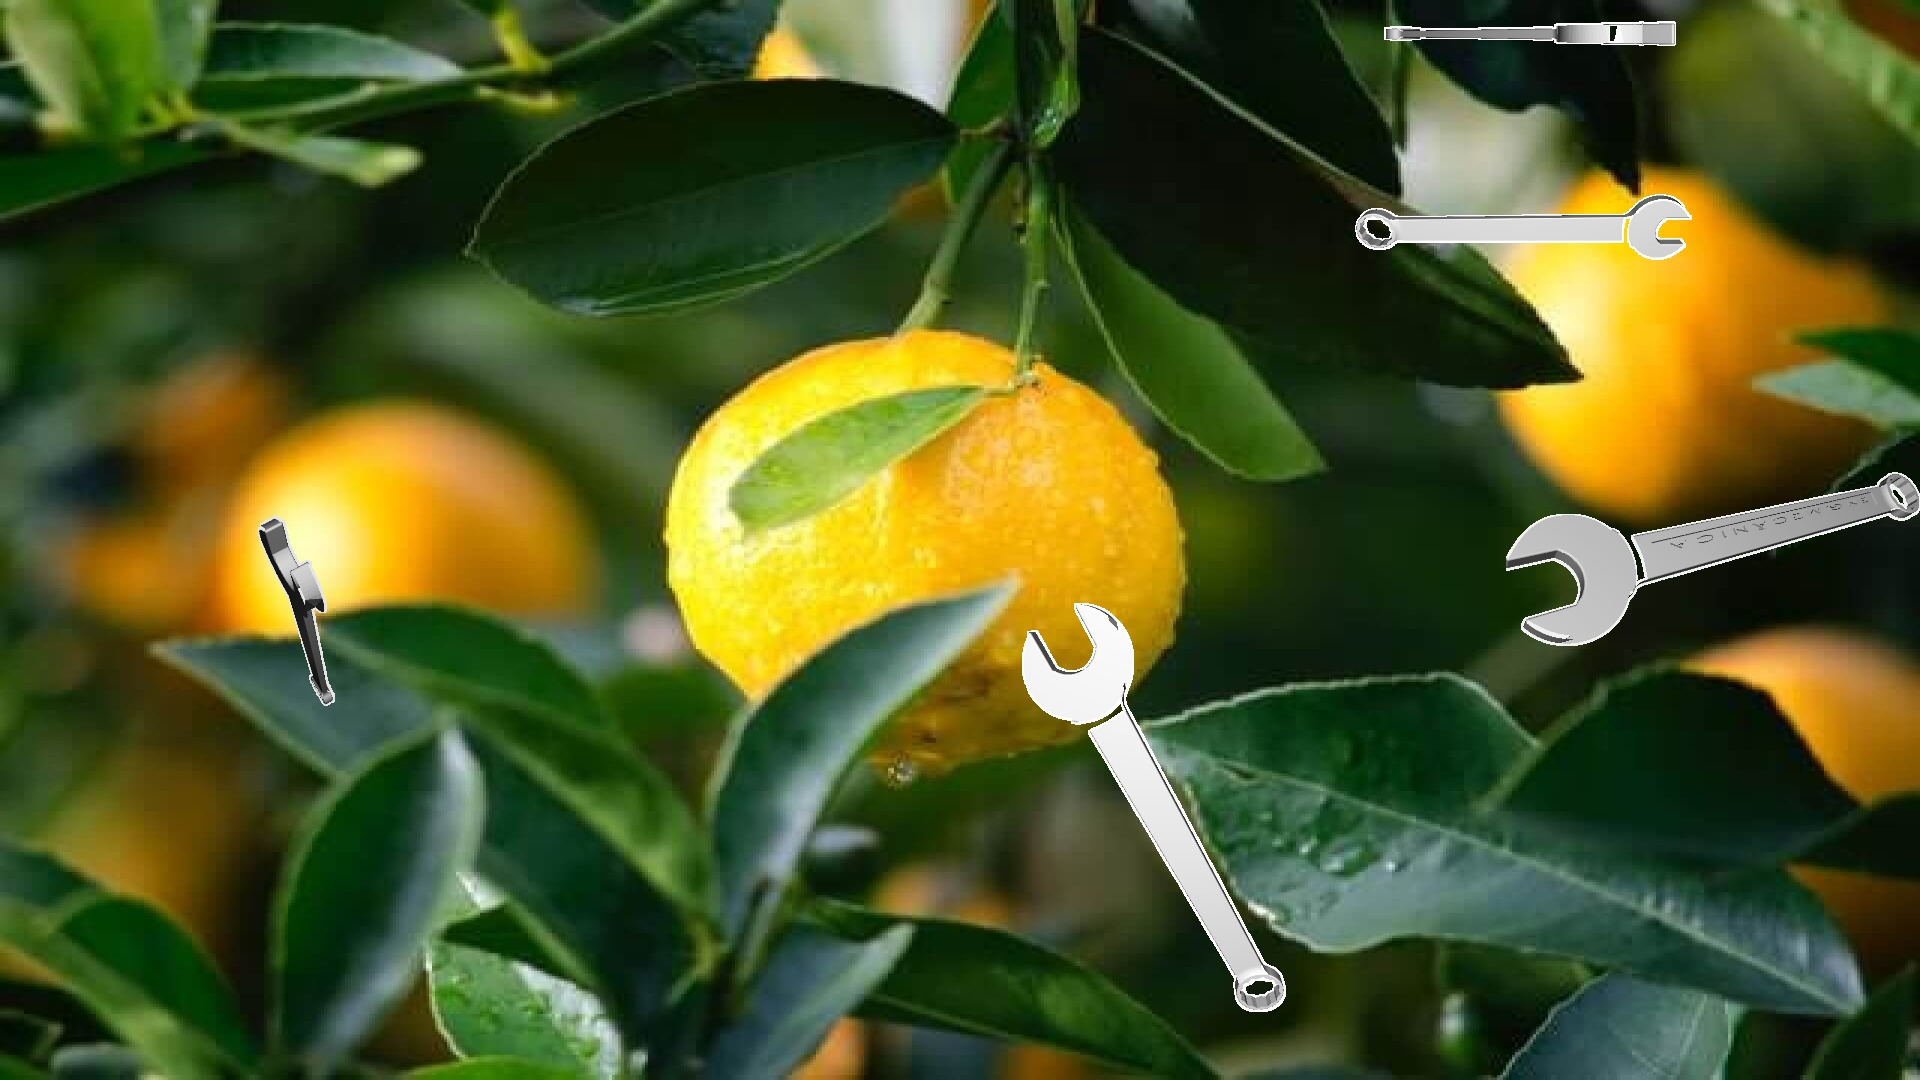Mixed Key: (1022, 603, 1284, 1011), (1506, 472, 1919, 645), (1356, 194, 1691, 258), (258, 516, 334, 705), (1385, 21, 1675, 45)
